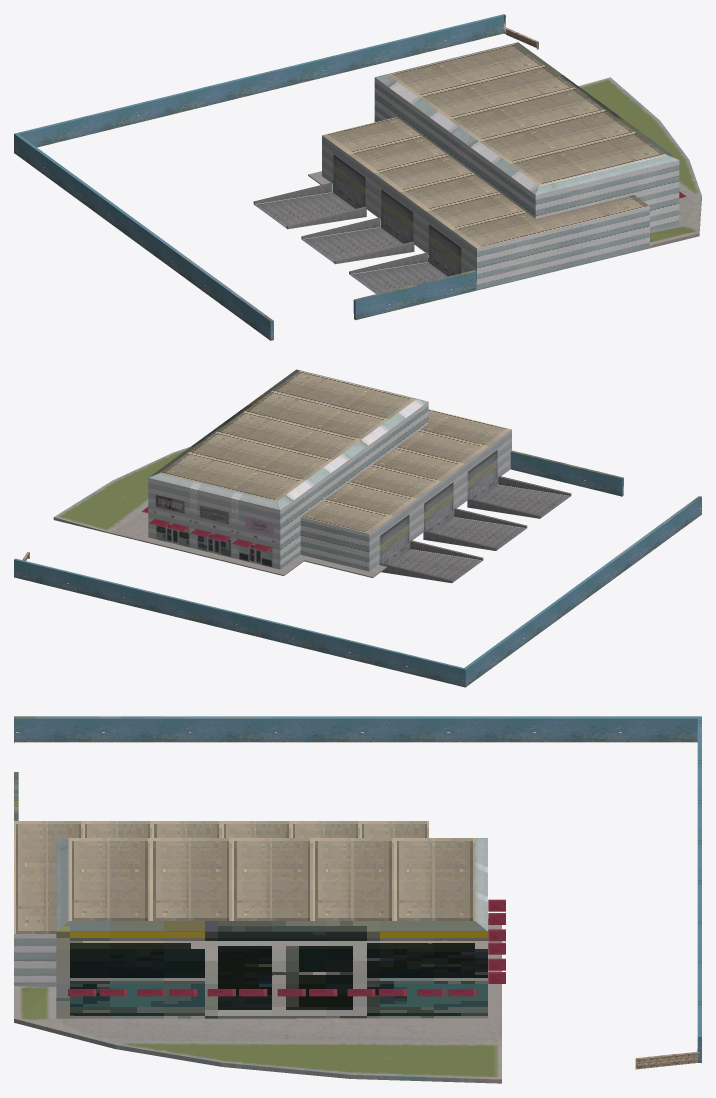
File: lodlowbuild057.obj
3 views of the same model, one above another, from view 1: azimuth 30°, elevation 25°; view 2: azimuth 150°, elevation 25°; view 3: azimuth 270°, elevation 25° (orthographic). The views are drawn at different scales.
Parts seen in each view (by area): view 1: lodlowbuild057; view 2: lodlowbuild057; view 3: lodlowbuild057.
Part boxes in pixels (<box>): lodlowbuild057: <box>14,14,701,340</box>; lodlowbuild057: <box>14,369,701,687</box>; lodlowbuild057: <box>14,716,701,1083</box>.
Bounding box in the file's own units: 82.66 × 11.64 × 70.42.
11 materials, 11 textured.
